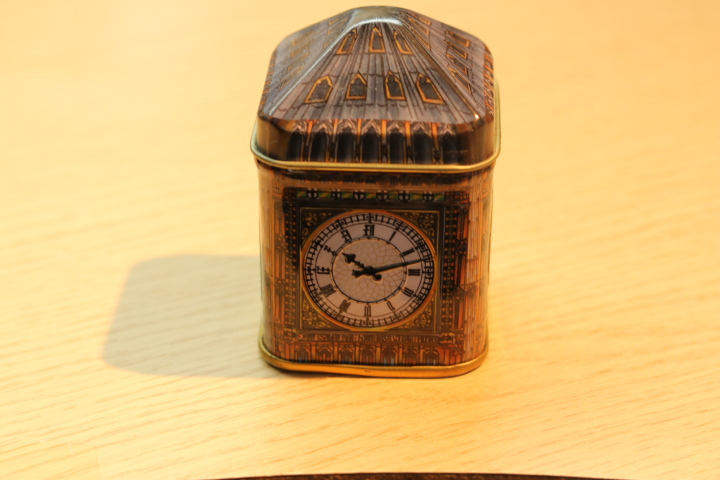Big Ben: (229, 1, 547, 388)
